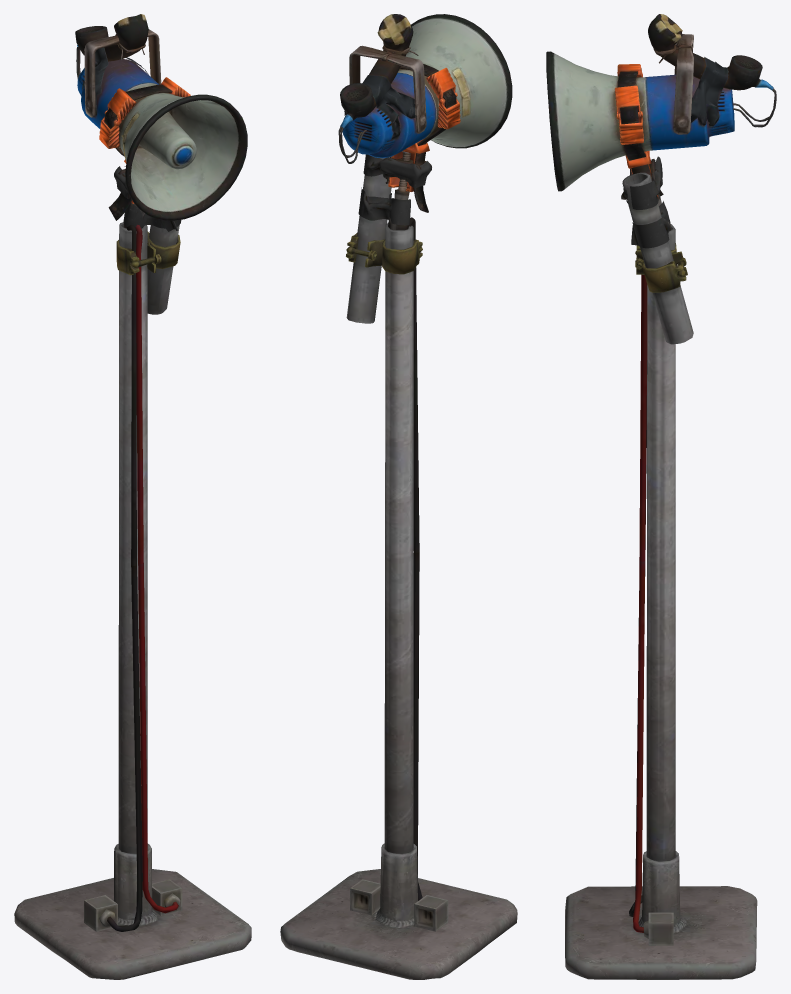
Rendered from microphonestand.deployed.glb.
The picture shows the model from 3 angles, left to right: view 1: azimuth 30°, elevation 25°; view 2: azimuth 150°, elevation 25°; view 3: azimuth 270°, elevation 25°; orthographic projection.
Parts seen in each view (by area): view 1: MicrophoneStand_LOD0, Megaphone_LOD0, DuctTape_LOD0; view 2: MicrophoneStand_LOD0, Megaphone_LOD0, DuctTape_LOD0; view 3: MicrophoneStand_LOD0, Megaphone_LOD0, DuctTape_LOD0.
Boxes of the visible parts, <box> form: MicrophoneStand_LOD0: <box>14,222,251,979</box>; Megaphone_LOD0: <box>75,14,247,228</box>; DuctTape_LOD0: <box>114,166,181,231</box>; MicrophoneStand_LOD0: <box>280,157,517,979</box>; Megaphone_LOD0: <box>338,14,512,230</box>; DuctTape_LOD0: <box>358,154,430,225</box>; MicrophoneStand_LOD0: <box>565,172,757,979</box>; Megaphone_LOD0: <box>546,14,776,231</box>; DuctTape_LOD0: <box>621,156,670,248</box>.
Bounding box in the file's own units: 0.3019 × 1.6 × 0.3616.
Materials: 2 (2 with a texture image).
